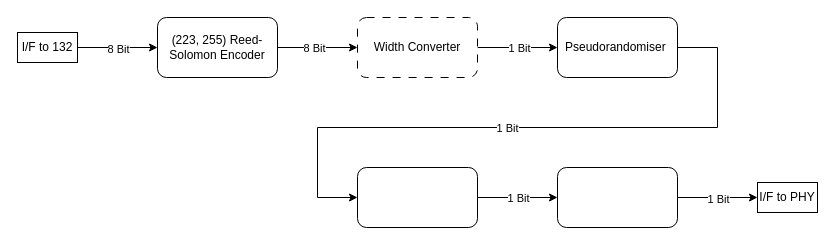
Some shapes in this 835 by 245 pixel diagram are drawn without their labels. Here are the shapes that lost their labels. From the top down, the centre of each, then its label:
point 417,197: Attached Sync Marker
point 617,197: Convolutional Code
